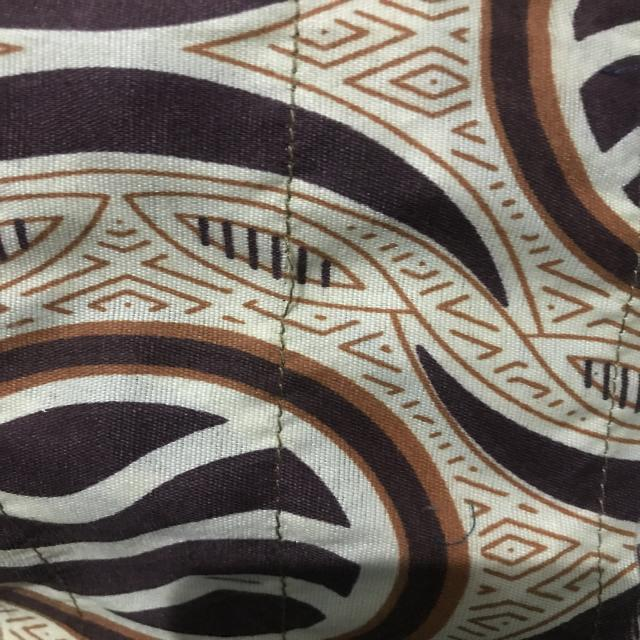good: (266, 398, 291, 454)
skip: (260, 224, 316, 330)
